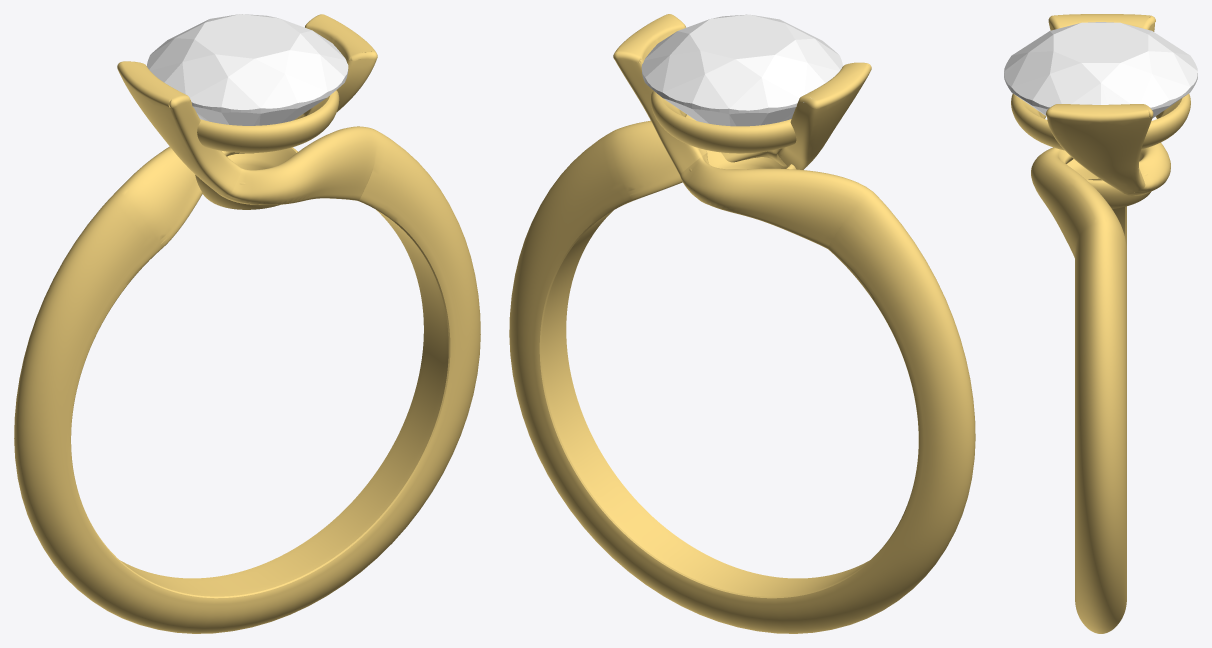
The model's file is EricPappasTwist_webgi.glb.
3 views of the same model, side by side, from view 1: azimuth 30°, elevation 25°; view 2: azimuth 150°, elevation 25°; view 3: azimuth 270°, elevation 25° (orthographic). The views are drawn at different scales.
Parts seen in each view (by area): view 1: twist_Eric_YG_for_3d_model, twist_Eric_dia_for_3d_model; view 2: twist_Eric_YG_for_3d_model, twist_Eric_dia_for_3d_model; view 3: twist_Eric_YG_for_3d_model, twist_Eric_dia_for_3d_model.
Boxes of the visible parts, x1,y1,x2,y2 form: twist_Eric_YG_for_3d_model: [14, 14, 480, 633]; twist_Eric_dia_for_3d_model: [147, 14, 348, 125]; twist_Eric_YG_for_3d_model: [509, 14, 975, 633]; twist_Eric_dia_for_3d_model: [641, 14, 842, 126]; twist_Eric_YG_for_3d_model: [1011, 14, 1190, 633]; twist_Eric_dia_for_3d_model: [1004, 22, 1197, 118].
Bounding box in the file's own units: 2.46 × 3.01 × 0.9326.
